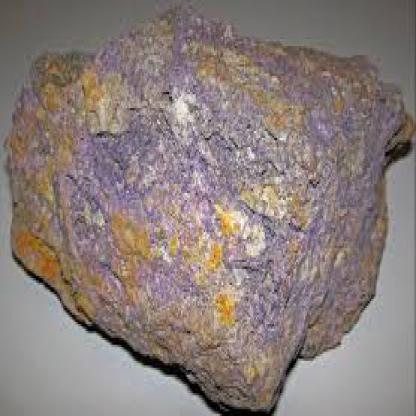Sedimentary_Limestone: (5, 2, 414, 414)
